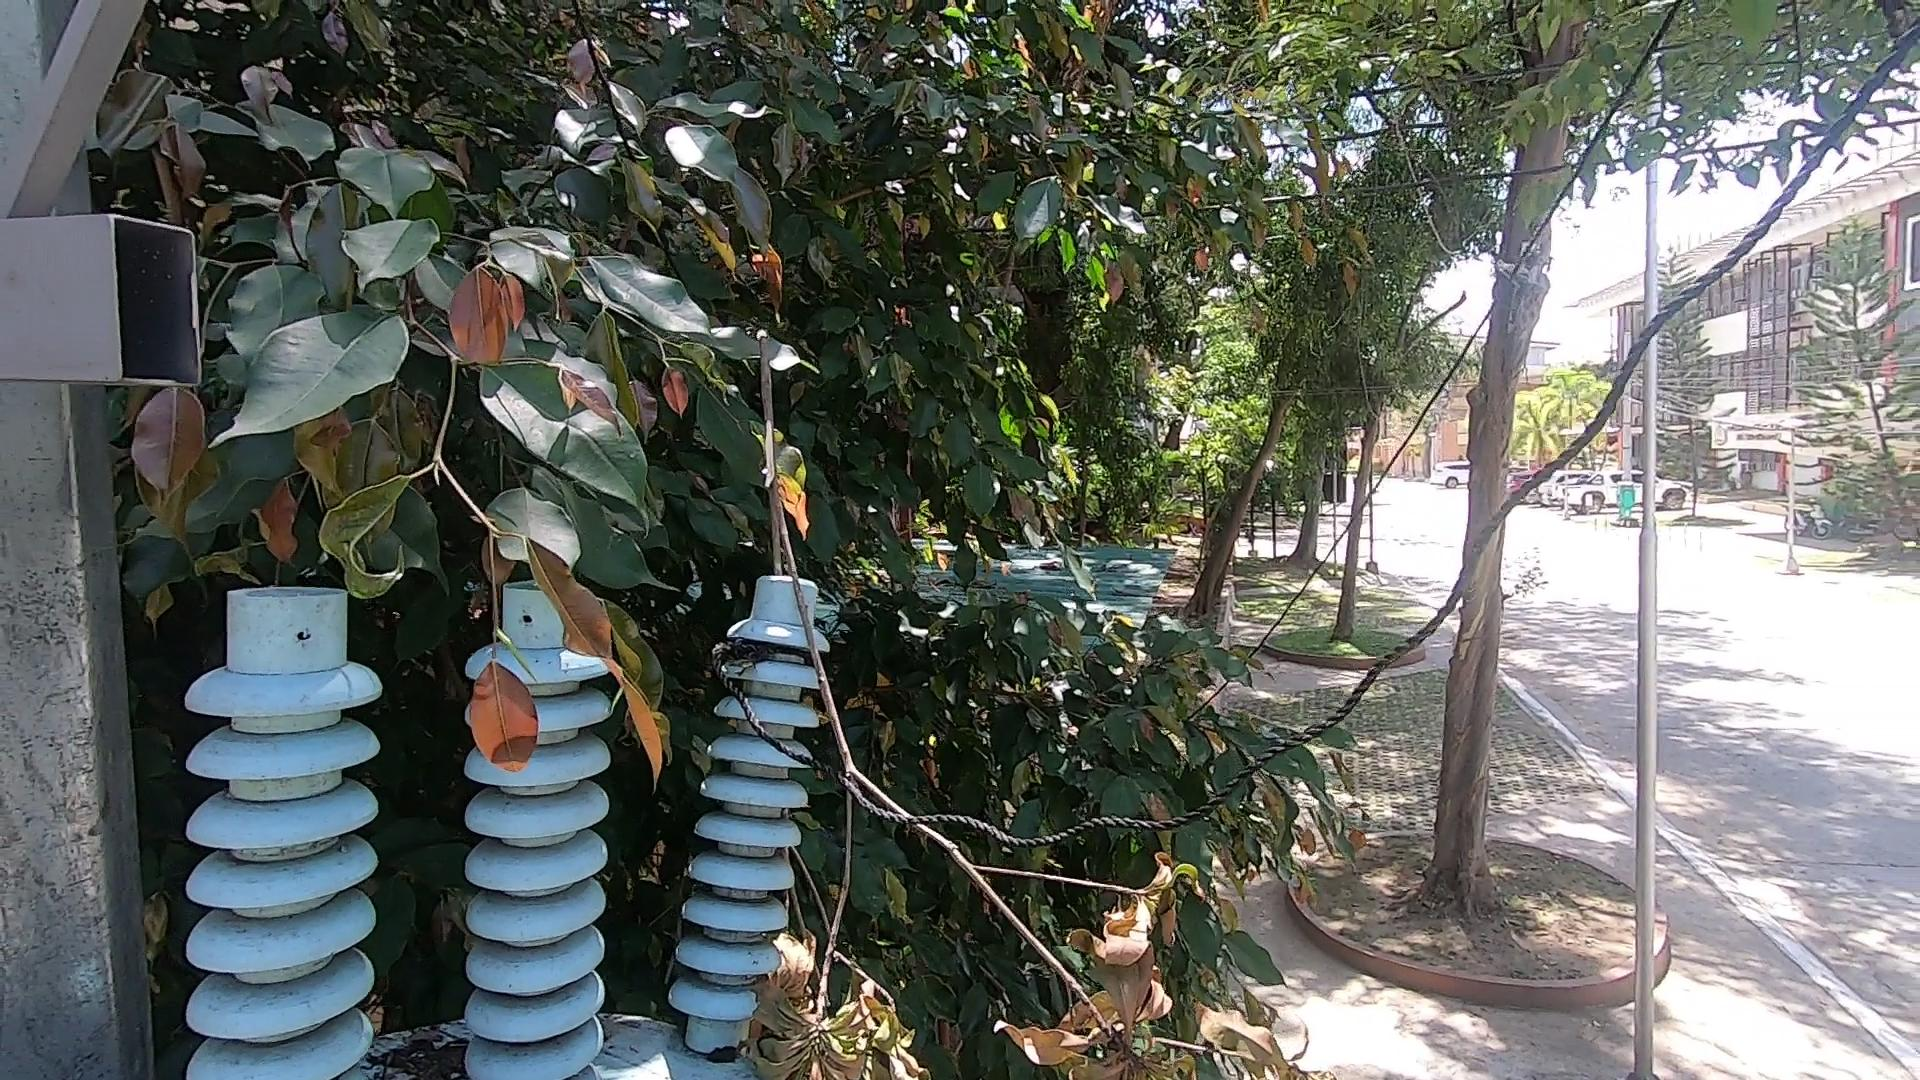branch with leaves: (721, 313, 1403, 1080)
